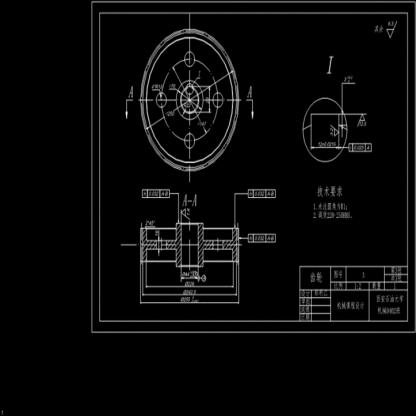FOD: (138, 26, 239, 174), (138, 219, 241, 266)
